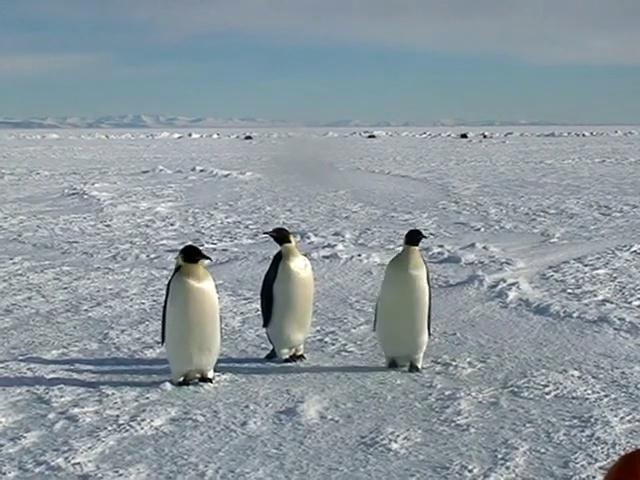animal: (375, 230, 432, 374)
